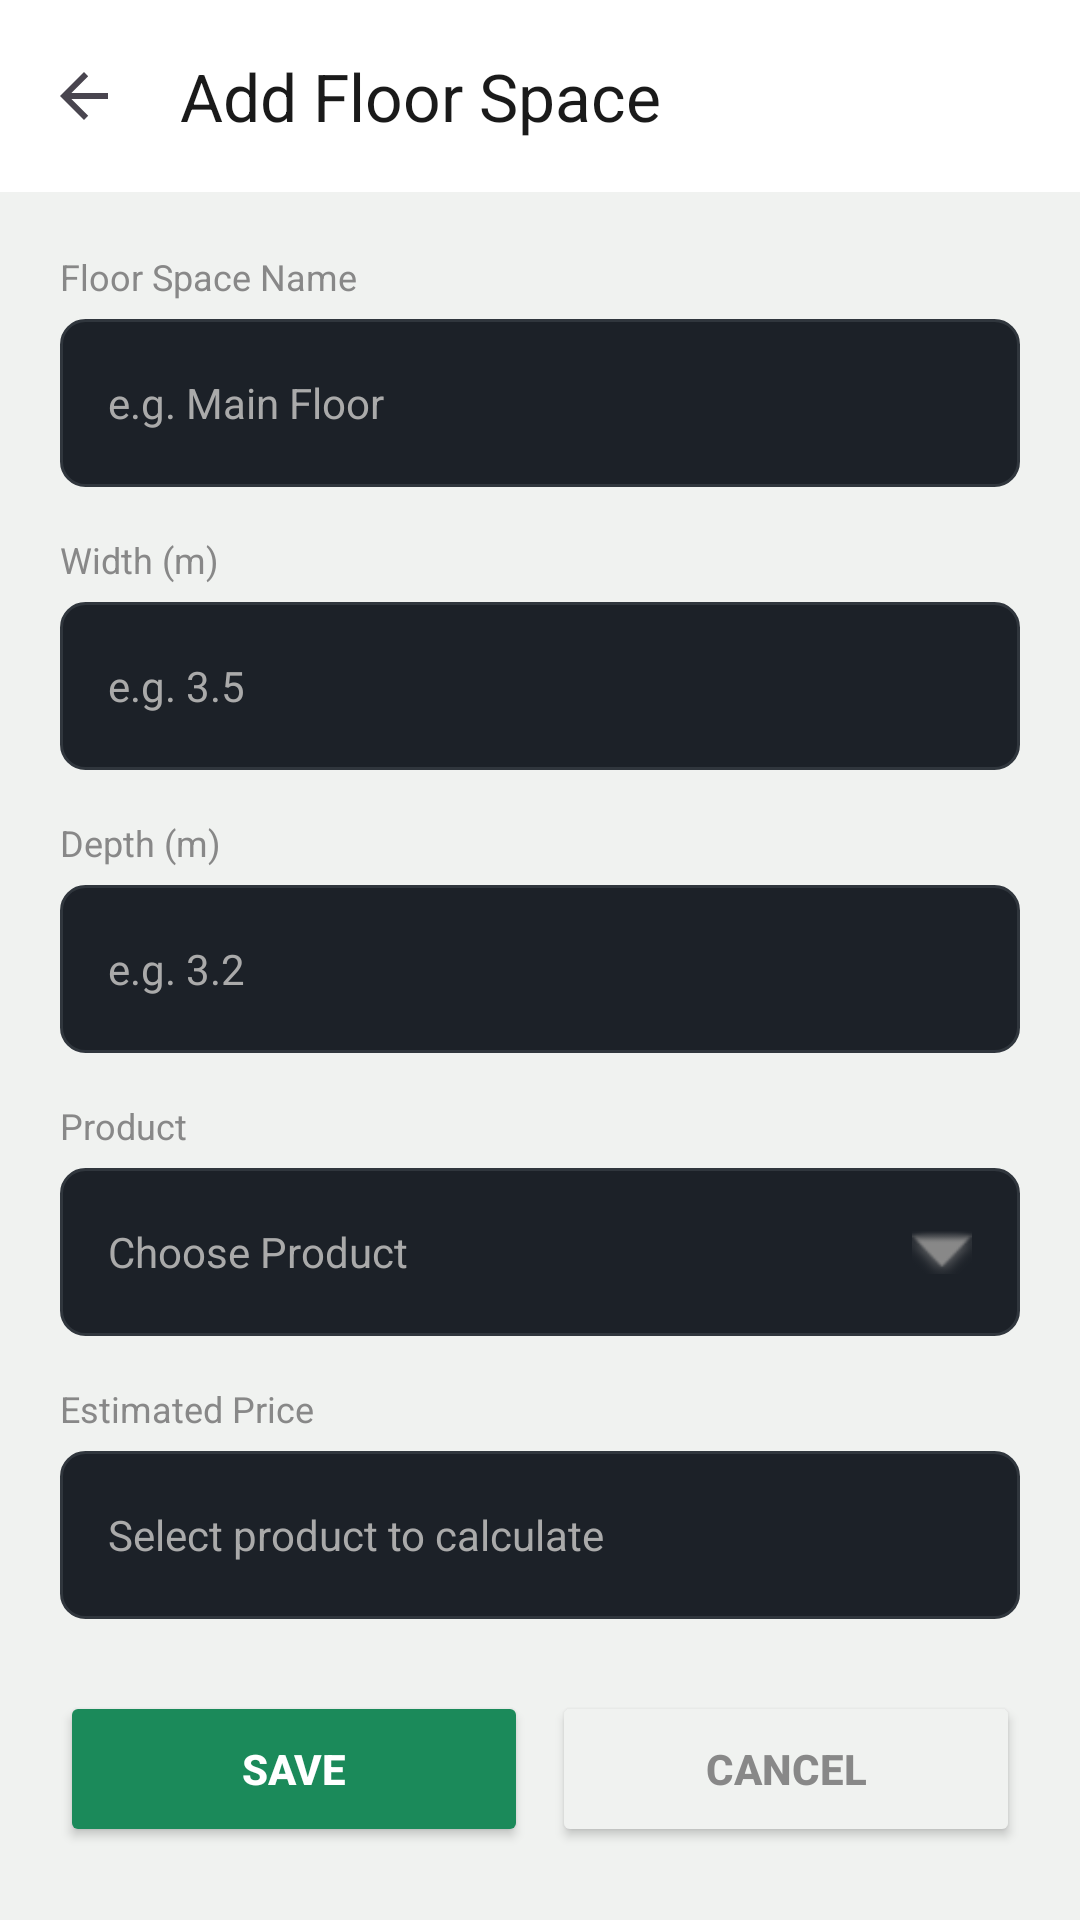

Locate icon controls on the screen. Image size 1080*1920, boxes as (x1, y1, x2, y2).
arrow down float: (912, 1234, 972, 1269)
